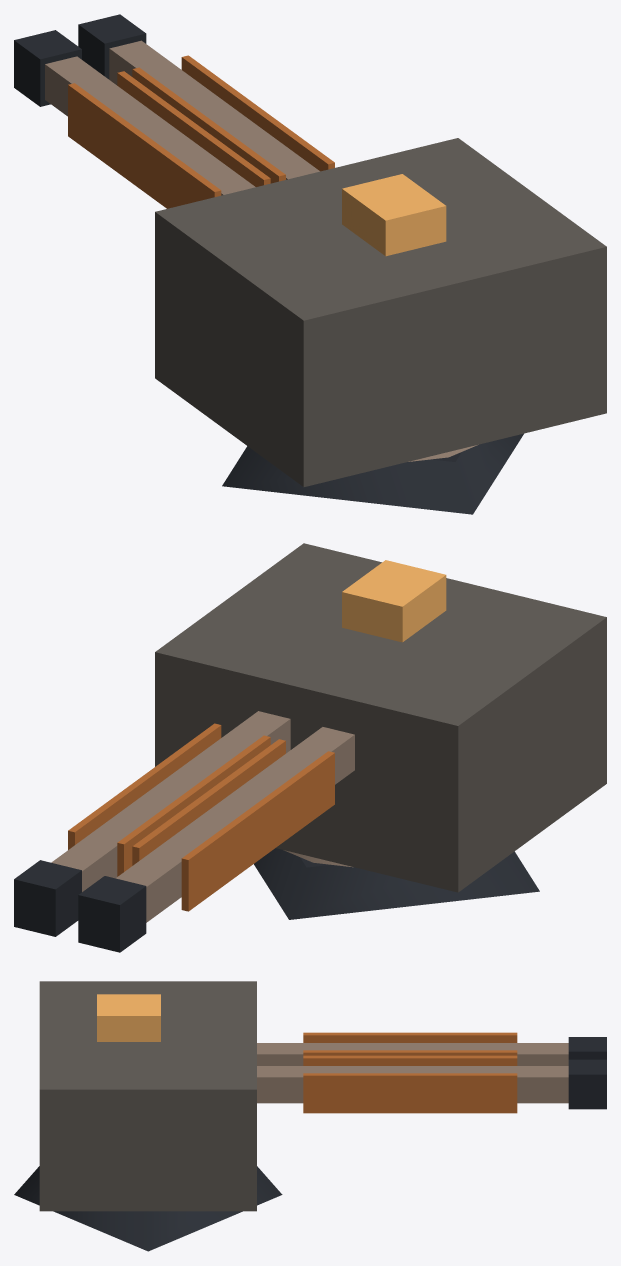
File: compact_high_gravity--kinetic_turret.glb
3 renders of one model, top to bottom at view 1: azimuth 30°, elevation 25°; view 2: azimuth 150°, elevation 25°; view 3: azimuth 270°, elevation 25°, orthographic. The views are drawn at different scales.
Parts seen in each view (by area): view 1: armored_module_housing_3, mount_adapter_1, rail_accelerator_6, targeting_unit_12, weapon_barrel_4, weapon_barrel_8, rail_accelerator_11, rail_accelerator_7, muzzle_5, muzzle_9, rail_accelerator_10; view 2: armored_module_housing_3, mount_adapter_1, rail_accelerator_6, weapon_barrel_4, weapon_barrel_8, targeting_unit_12, muzzle_5, muzzle_9, rail_accelerator_7, rail_accelerator_11, rail_accelerator_10; view 3: armored_module_housing_3, rail_accelerator_11, weapon_barrel_8, mount_adapter_1, weapon_barrel_4, targeting_unit_12, rail_accelerator_6, rail_accelerator_10, muzzle_9, rail_accelerator_7, muzzle_5.
Boxes of the visible parts, x1,y1,x2,y2 form: armored_module_housing_3: [155, 138, 606, 486]; mount_adapter_1: [222, 433, 523, 514]; rail_accelerator_6: [68, 83, 221, 208]; targeting_unit_12: [342, 174, 446, 256]; weapon_barrel_4: [45, 56, 255, 195]; weapon_barrel_8: [109, 40, 319, 179]; rail_accelerator_11: [181, 55, 334, 171]; rail_accelerator_7: [117, 71, 270, 186]; muzzle_5: [14, 30, 81, 106]; muzzle_9: [78, 14, 146, 79]; rail_accelerator_10: [132, 67, 285, 183]; armored_module_housing_3: [155, 543, 606, 892]; mount_adapter_1: [254, 848, 539, 919]; rail_accelerator_6: [181, 751, 334, 911]; weapon_barrel_4: [116, 727, 354, 922]; weapon_barrel_8: [51, 711, 290, 891]; targeting_unit_12: [342, 560, 446, 642]; muzzle_5: [78, 876, 146, 952]; muzzle_9: [14, 860, 81, 936]; rail_accelerator_7: [132, 739, 285, 865]; rail_accelerator_11: [68, 723, 221, 849]; rail_accelerator_10: [117, 735, 270, 876]; armored_module_housing_3: [39, 981, 256, 1211]; rail_accelerator_11: [303, 1073, 517, 1113]; weapon_barrel_8: [257, 1066, 568, 1103]; mount_adapter_1: [14, 1166, 282, 1251]; weapon_barrel_4: [257, 1043, 568, 1065]; targeting_unit_12: [97, 994, 160, 1041]; rail_accelerator_6: [303, 1032, 517, 1042]; rail_accelerator_10: [303, 1055, 517, 1065]; muzzle_9: [568, 1059, 606, 1109]; rail_accelerator_7: [303, 1050, 517, 1055]; muzzle_5: [568, 1037, 606, 1059].
Size of the model in its own units: 10.08 by 7.86 by 22.26.
